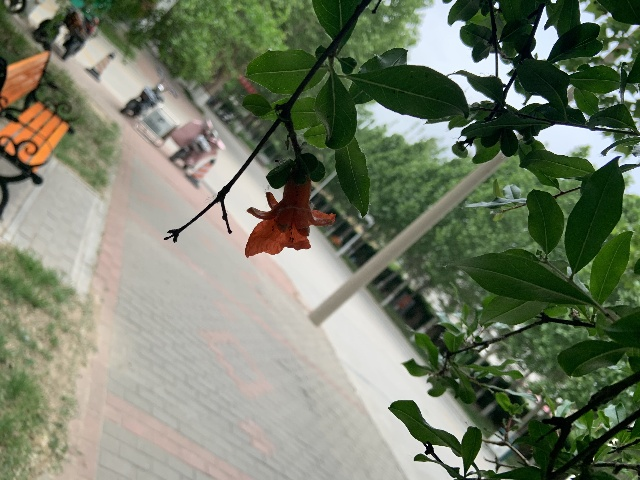flower: (244, 175, 336, 257)
